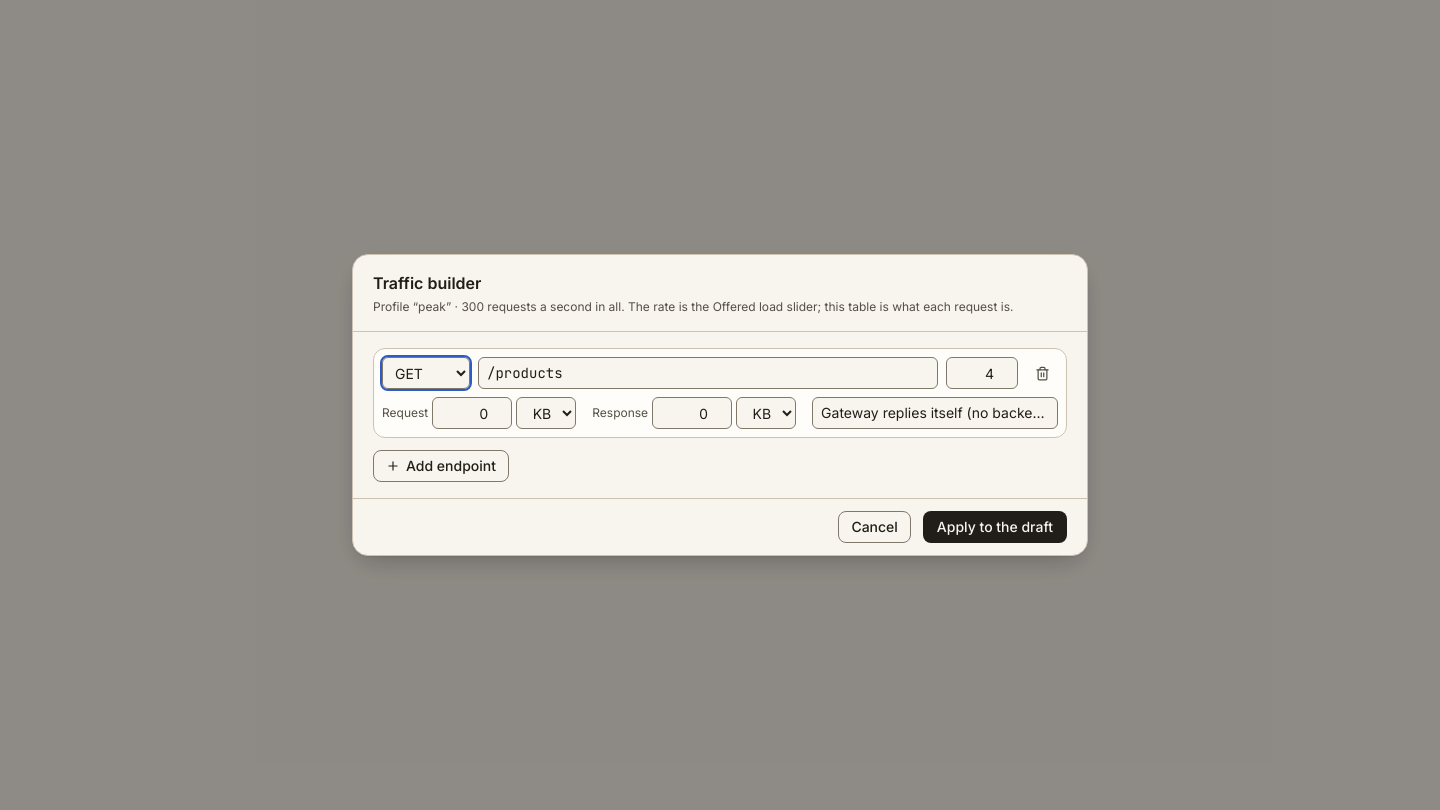
Test: without_a_gateway_a_service_choice_is_refused_in_words
The width and height of the screenshot is (1440, 810).
What coordinates should you click on to do the following:
click the button with aria-label "Services behind endpoint 1"
I would click on:
 (935, 413)
Its box is [812,397,1058,429].
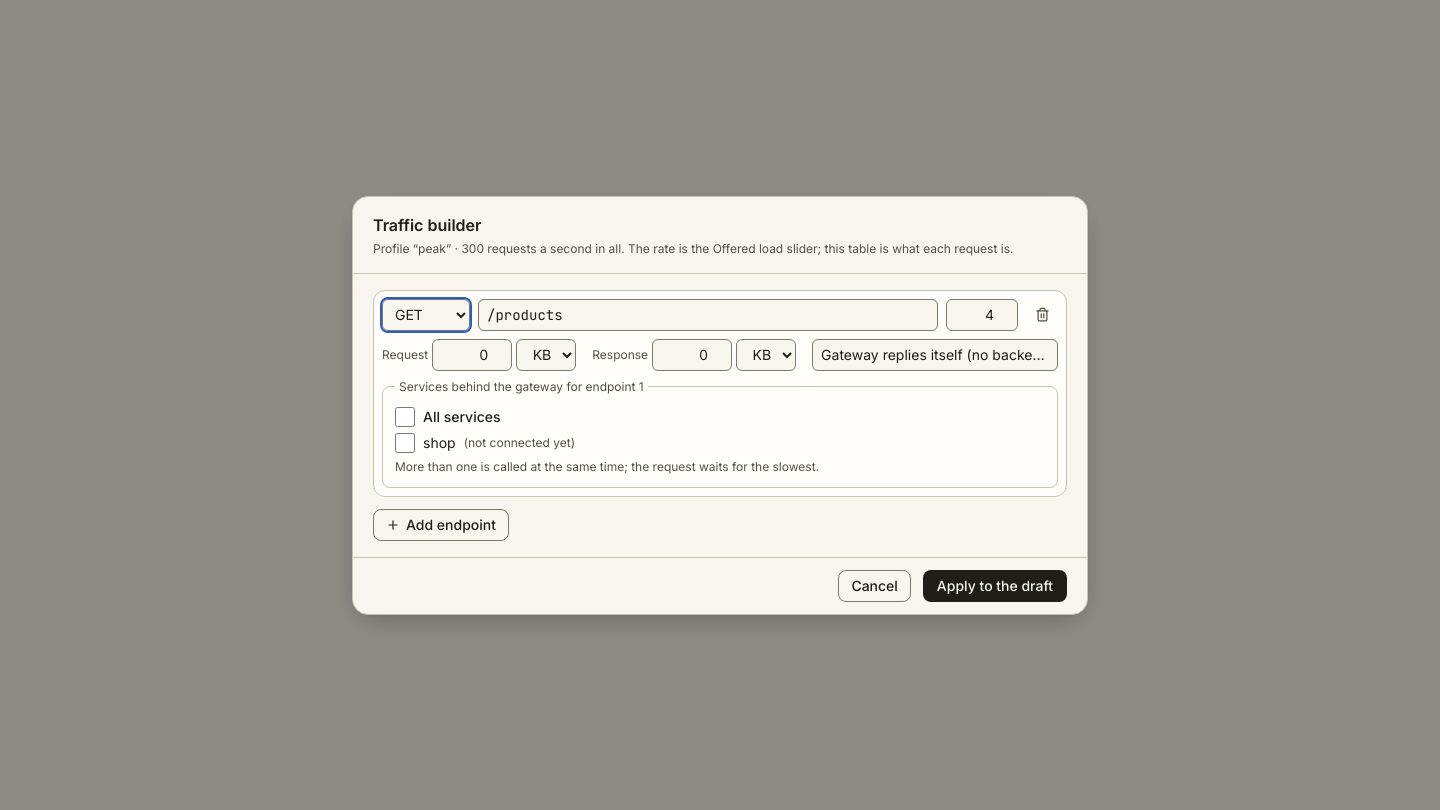
What coordinates should you click on to do the following:
click the checkbox labelled "shop (not connected yet)"
I would click on:
 (405, 442)
Its box is [395,432,415,452].
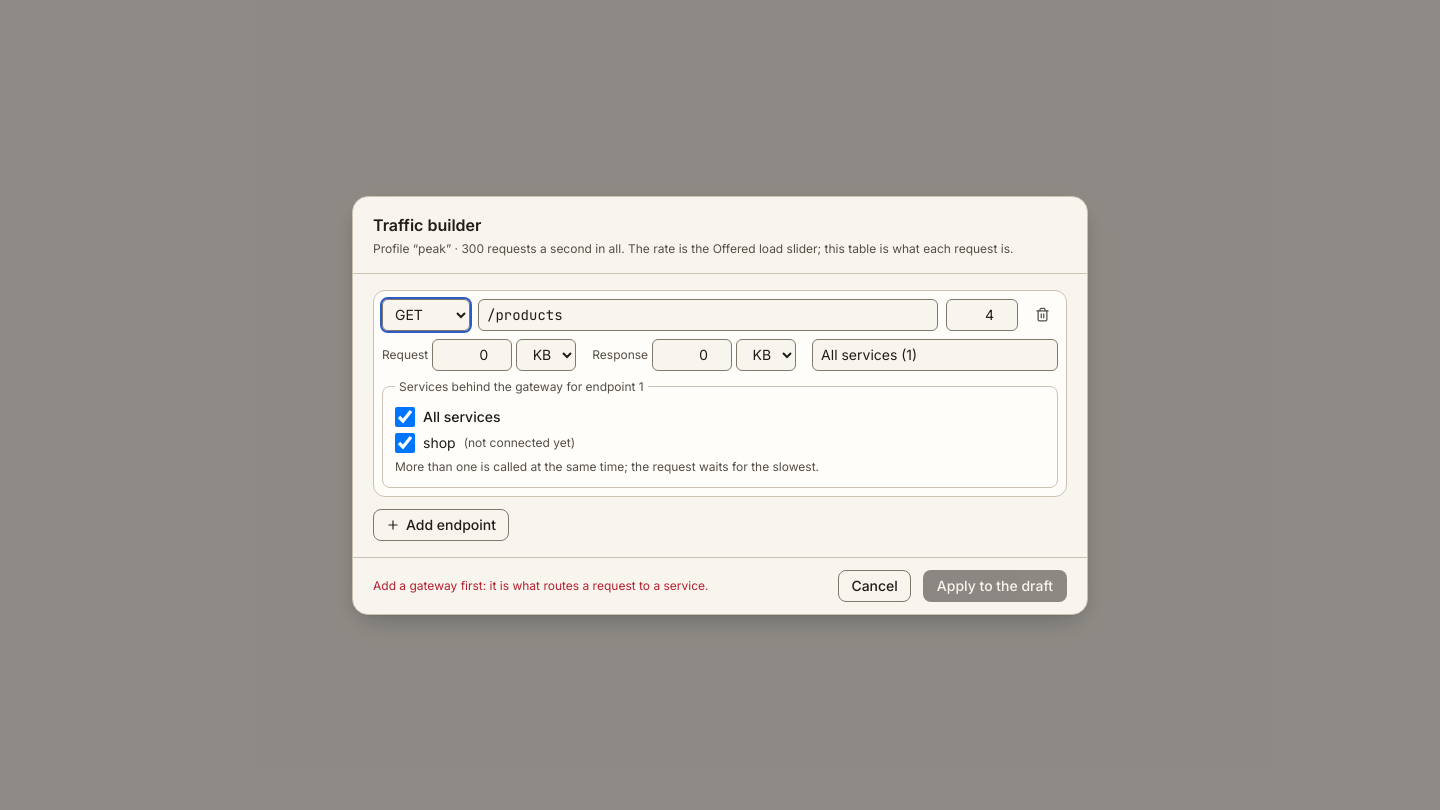
Now the list item "Add a gateway first" is shown, box [373,578,708,592]
